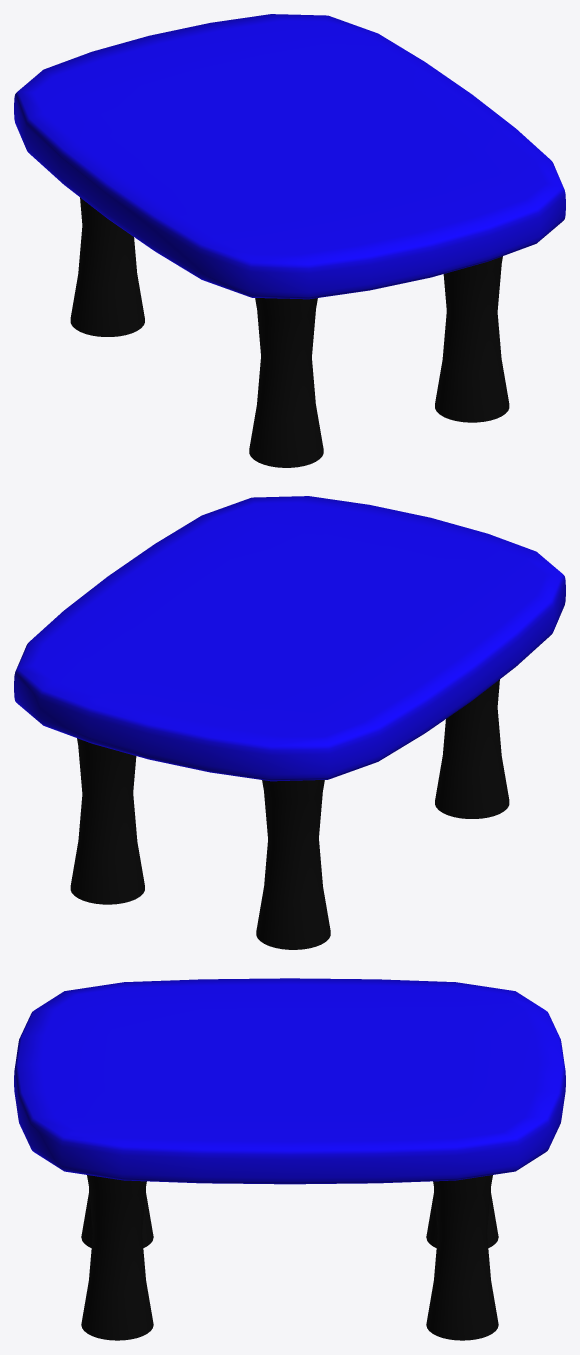
Rendered from Table.FBX.
3 views of the same model, one above another, from view 1: azimuth 30°, elevation 25°; view 2: azimuth 150°, elevation 25°; view 3: azimuth 270°, elevation 25° (orthographic). The views are drawn at different scales.
Visible parts, largest first — view 1: Cylinder.001; view 2: Cylinder.001; view 3: Cylinder.001.
Part boxes in pixels (x1,y1,x2,y2): Cylinder.001: [14, 14, 565, 467]; Cylinder.001: [14, 496, 565, 949]; Cylinder.001: [14, 978, 565, 1340].
Bounding box in the file's own units: 120 × 70.01 × 160.
